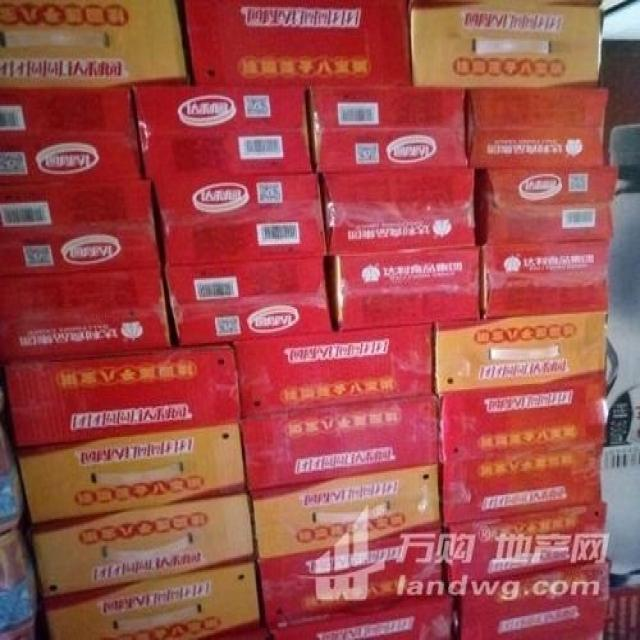box: (3, 345, 242, 447), (14, 422, 246, 526), (31, 493, 256, 599), (241, 393, 440, 495), (184, 0, 411, 87), (233, 323, 434, 420), (246, 464, 442, 561), (256, 531, 444, 628), (41, 561, 268, 640), (132, 85, 312, 181), (0, 266, 173, 364), (0, 0, 189, 89), (150, 172, 328, 266), (0, 179, 163, 275), (444, 503, 608, 596), (433, 309, 608, 396), (436, 377, 609, 464), (163, 258, 334, 346), (308, 85, 471, 174), (440, 444, 607, 529), (0, 87, 143, 186), (317, 169, 476, 256), (324, 246, 481, 331), (452, 561, 611, 640), (467, 87, 613, 169), (476, 166, 620, 246), (480, 239, 616, 317), (268, 596, 452, 640), (0, 531, 38, 640), (0, 427, 26, 531)
